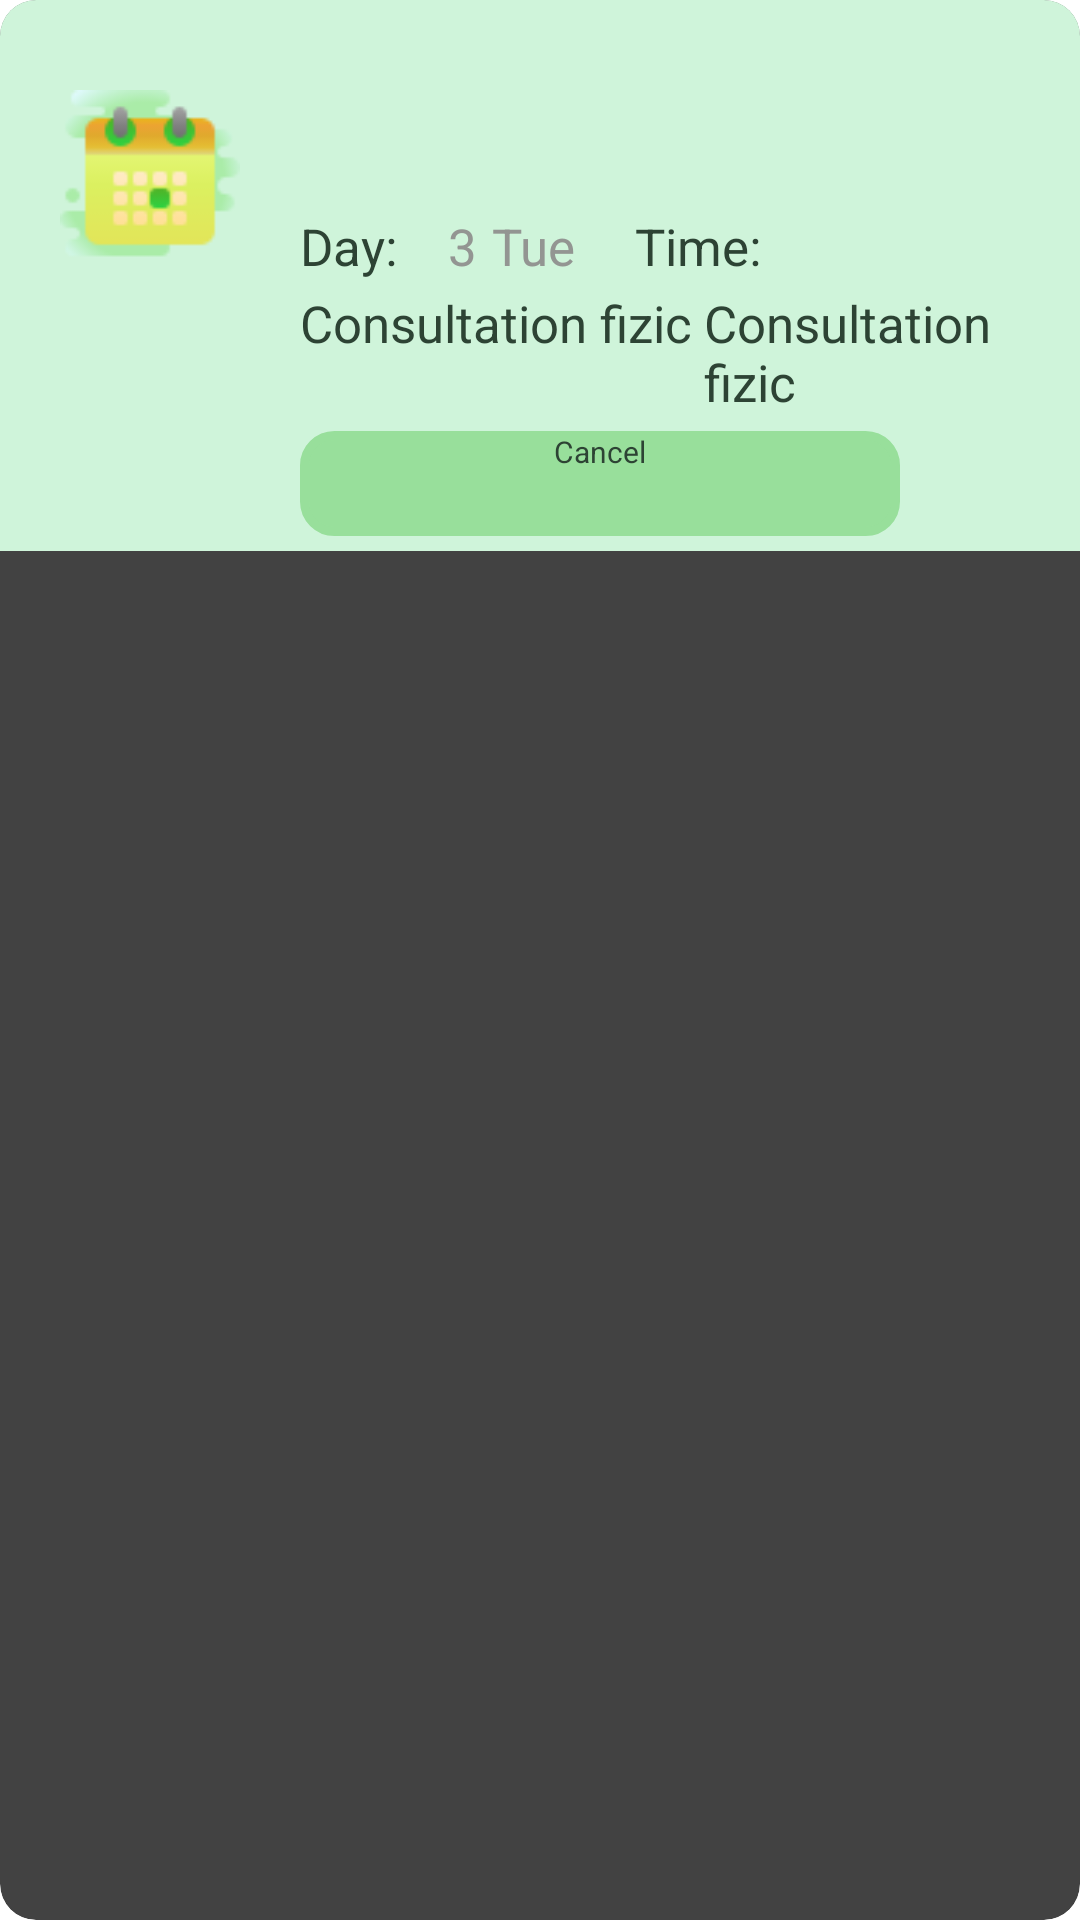

Icon click points for this 1080x1920 phone screenshot, format (x=x, y=y):
iconappointment: (x=148, y=173)
